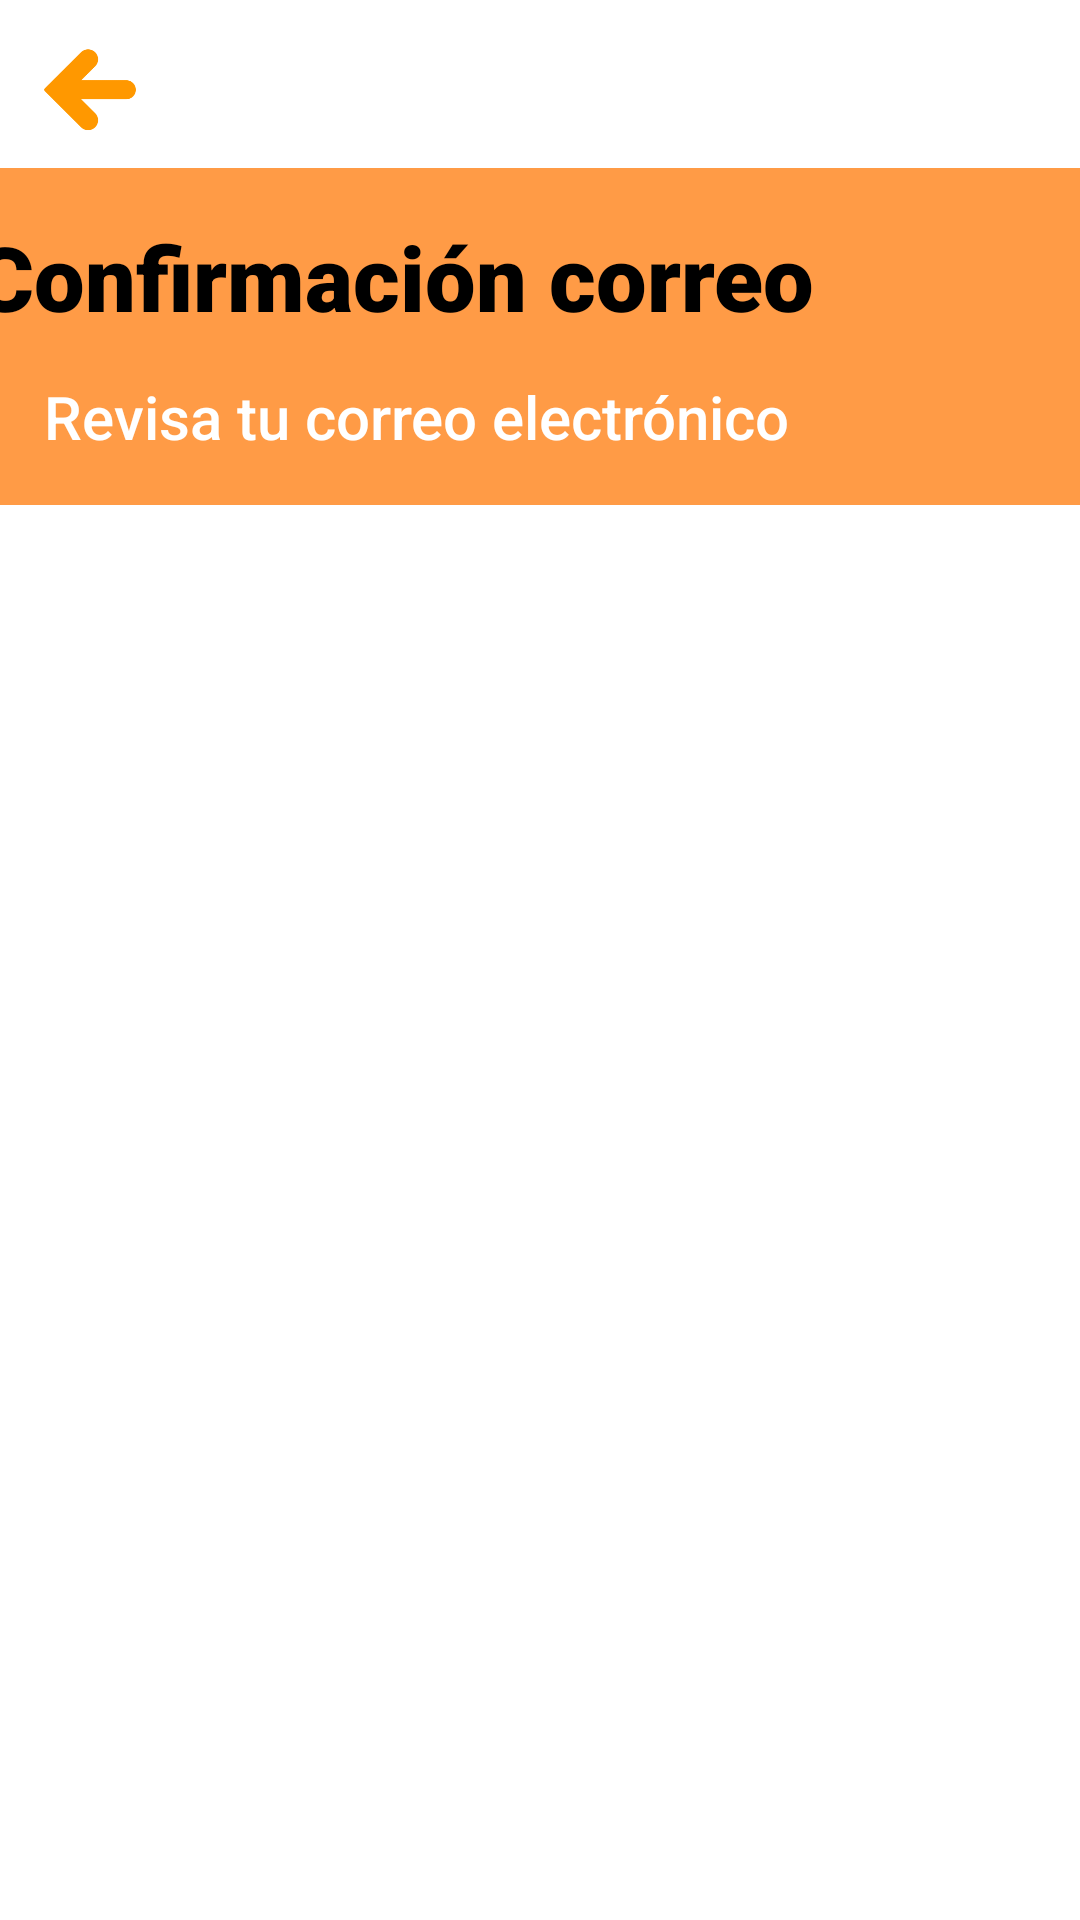

Where to tap for icons on this 1080x1920 app screen, as (x,y):
flecha izquierda: (90,89)
